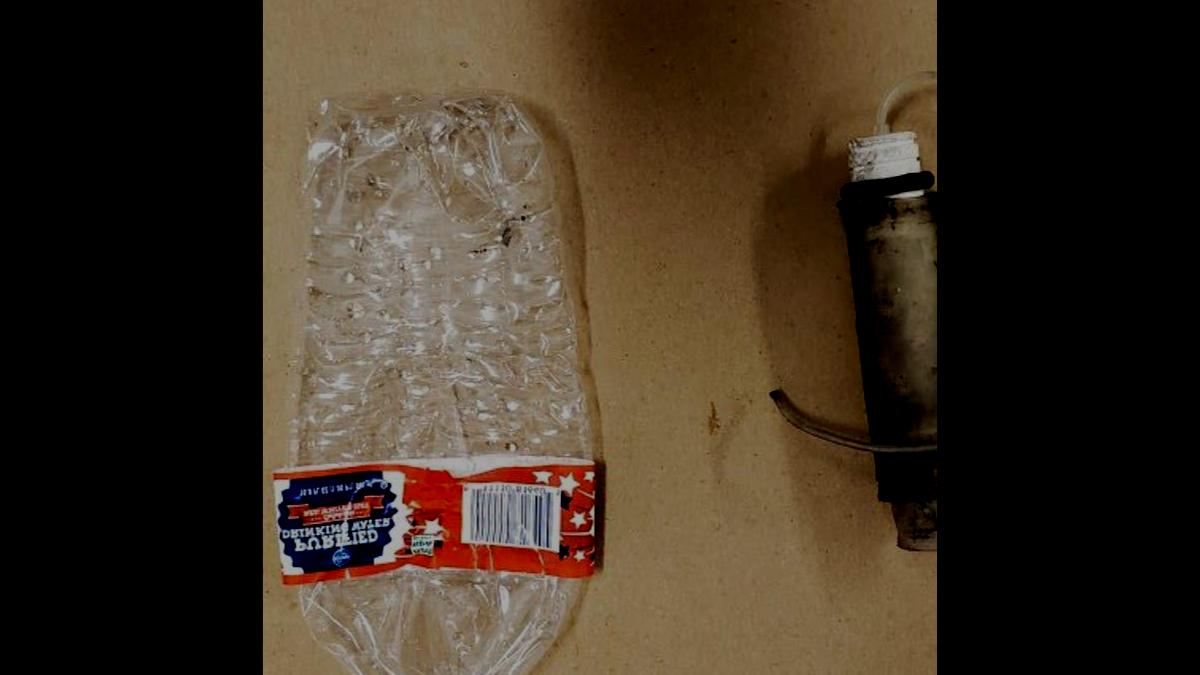bottle: (278, 80, 681, 675)
